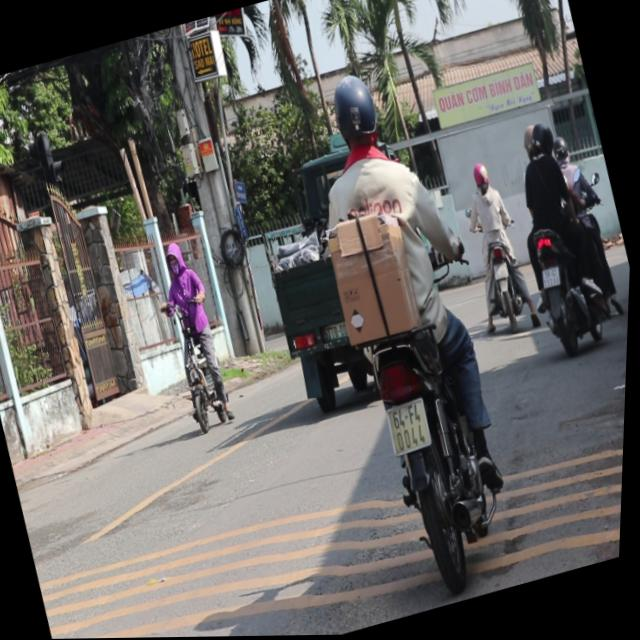helmet: (321, 67, 387, 160), (160, 236, 189, 279), (517, 121, 545, 160), (528, 118, 556, 157)
licenseplate: (272, 54, 552, 603), (489, 108, 636, 363), (144, 232, 246, 436), (445, 154, 544, 338)
nohelmet: (387, 398, 435, 454), (540, 265, 564, 289), (493, 262, 510, 279)
